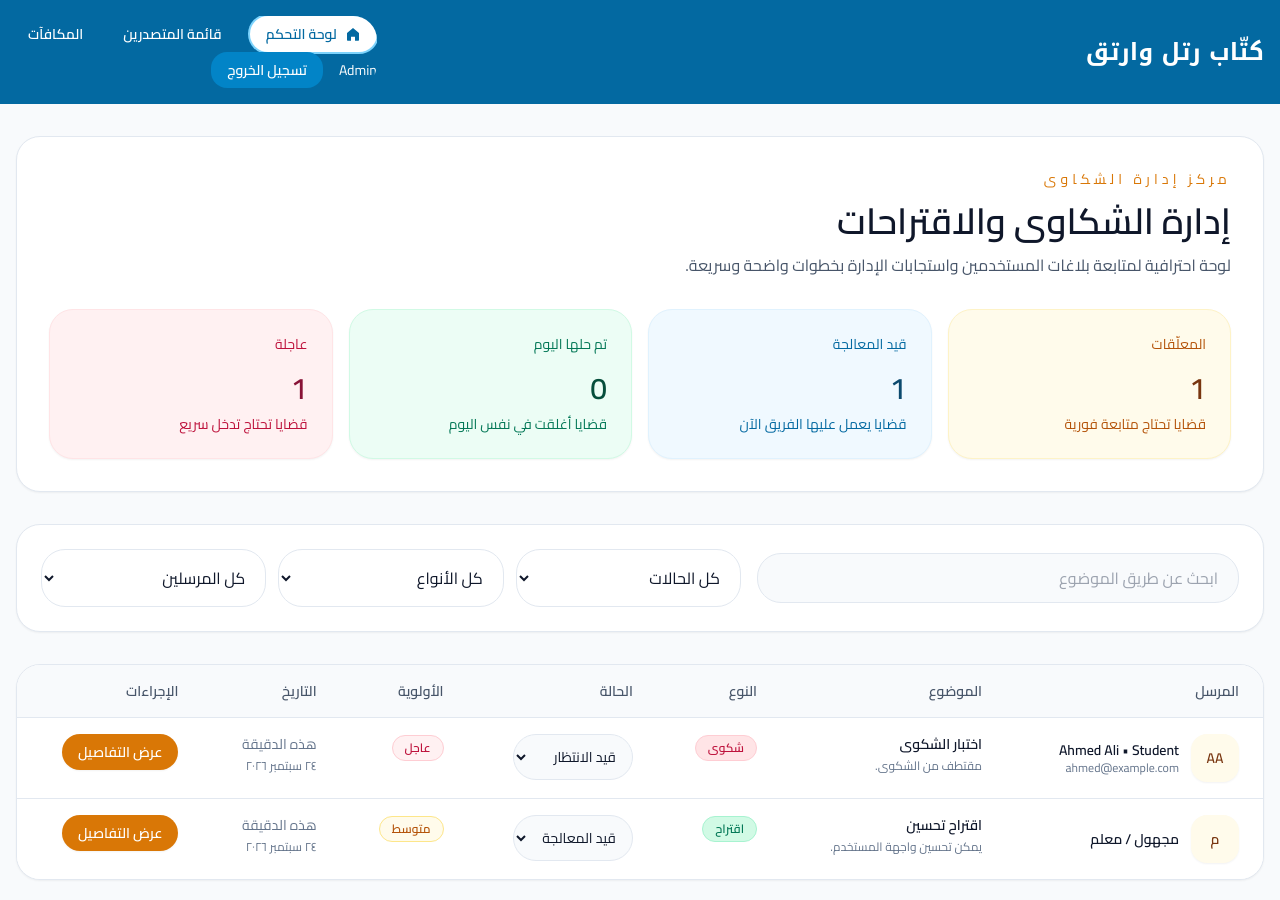
Test: AdminComplaintsPage › opens complaint details modal when عرض التفاصيل is clicked
This screenshot has width=1280, height=900.
What coordinates should you click on to do the following:
click the button "عرض التفاصيل" in the row of "AA"
I would click on:
 (120, 752)
Its box is [62,734,178,770].
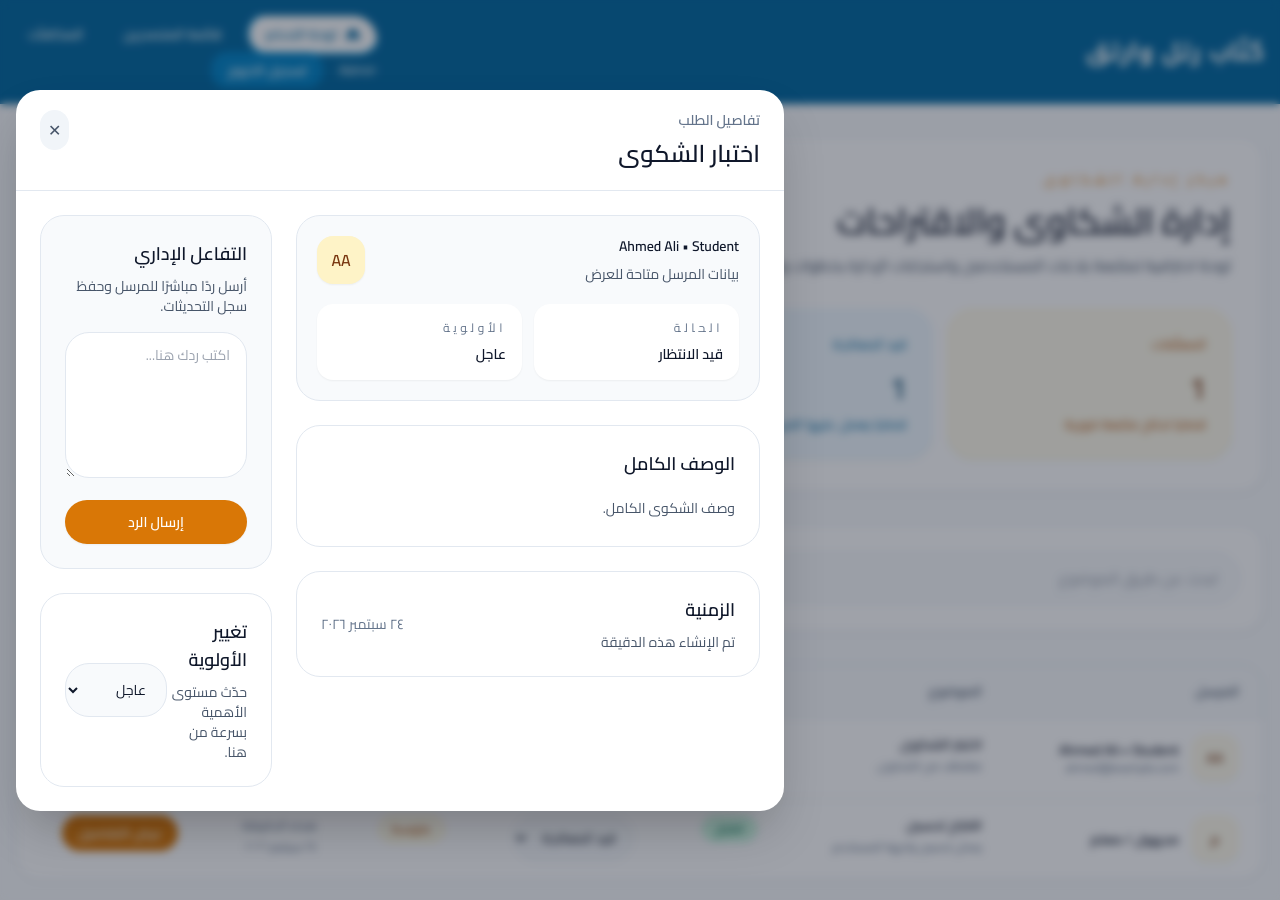
Check: the text "تفاصيل الطلب" is shown, box [678,106,760,132]
Check: the text "وصف الشكوى الكامل." is shown, box [603,494,735,520]
